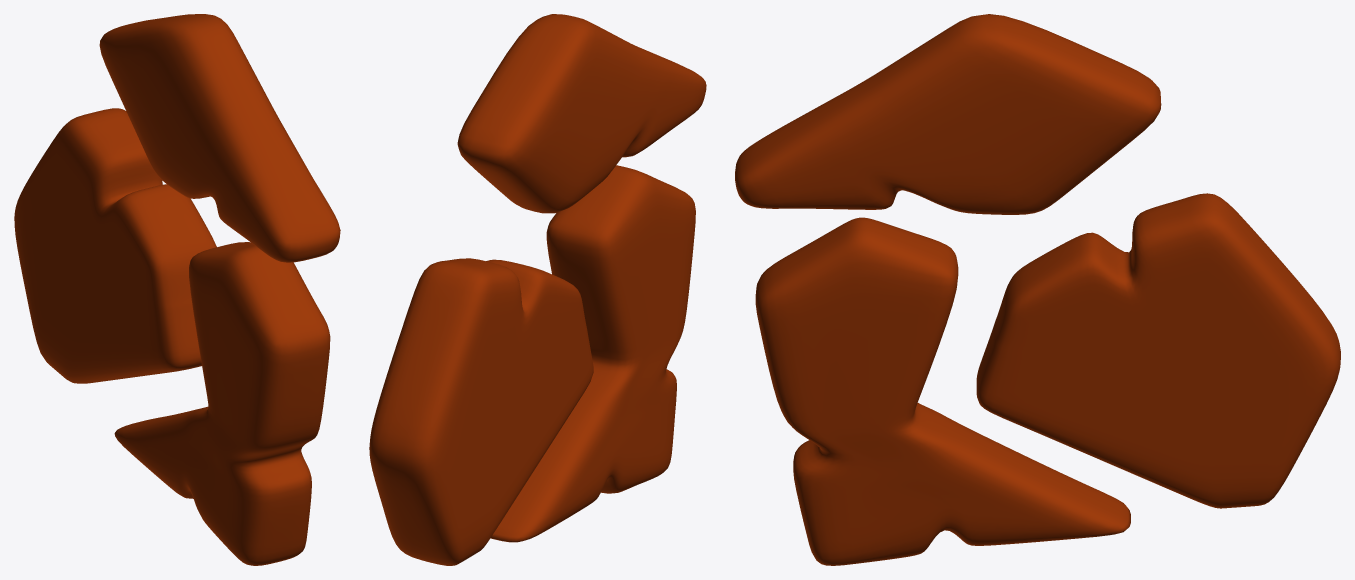
The model's file is rock.fbx.
The picture shows the model from 3 angles, left to right: view 1: azimuth 30°, elevation 25°; view 2: azimuth 150°, elevation 25°; view 3: azimuth 270°, elevation 25°; orthographic projection. The views are drawn at different scales.
Parts seen in each view (by area): view 1: Rock; view 2: Rock; view 3: Rock.
Boxes of the visible parts, left/top/right/bottom form: Rock: left=14, top=14, right=340, bottom=565; Rock: left=369, top=14, right=706, bottom=565; Rock: left=735, top=14, right=1340, bottom=565.
Bounding box in the file's own units: 11.85 × 80.47 × 82.8.
